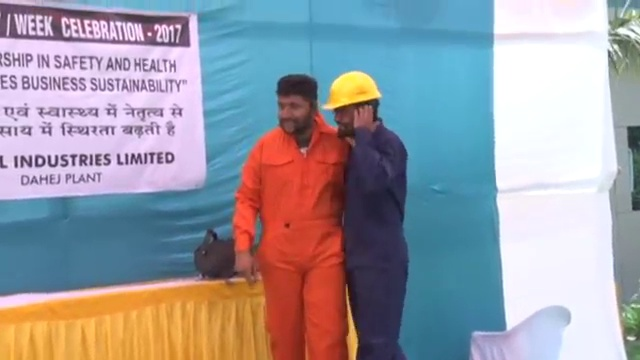helmet: (319, 70, 383, 109)
helmet_off: (276, 73, 315, 134)
helmet_on: (317, 69, 386, 139)
person: (234, 71, 356, 360), (320, 68, 412, 360)
